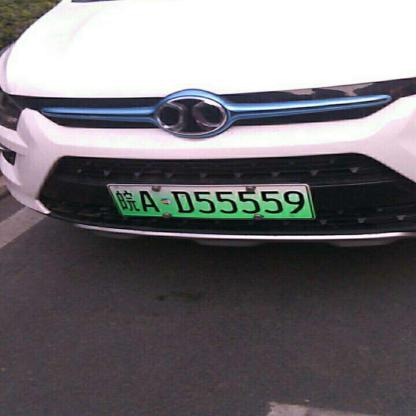lp: (108, 184, 314, 218)
